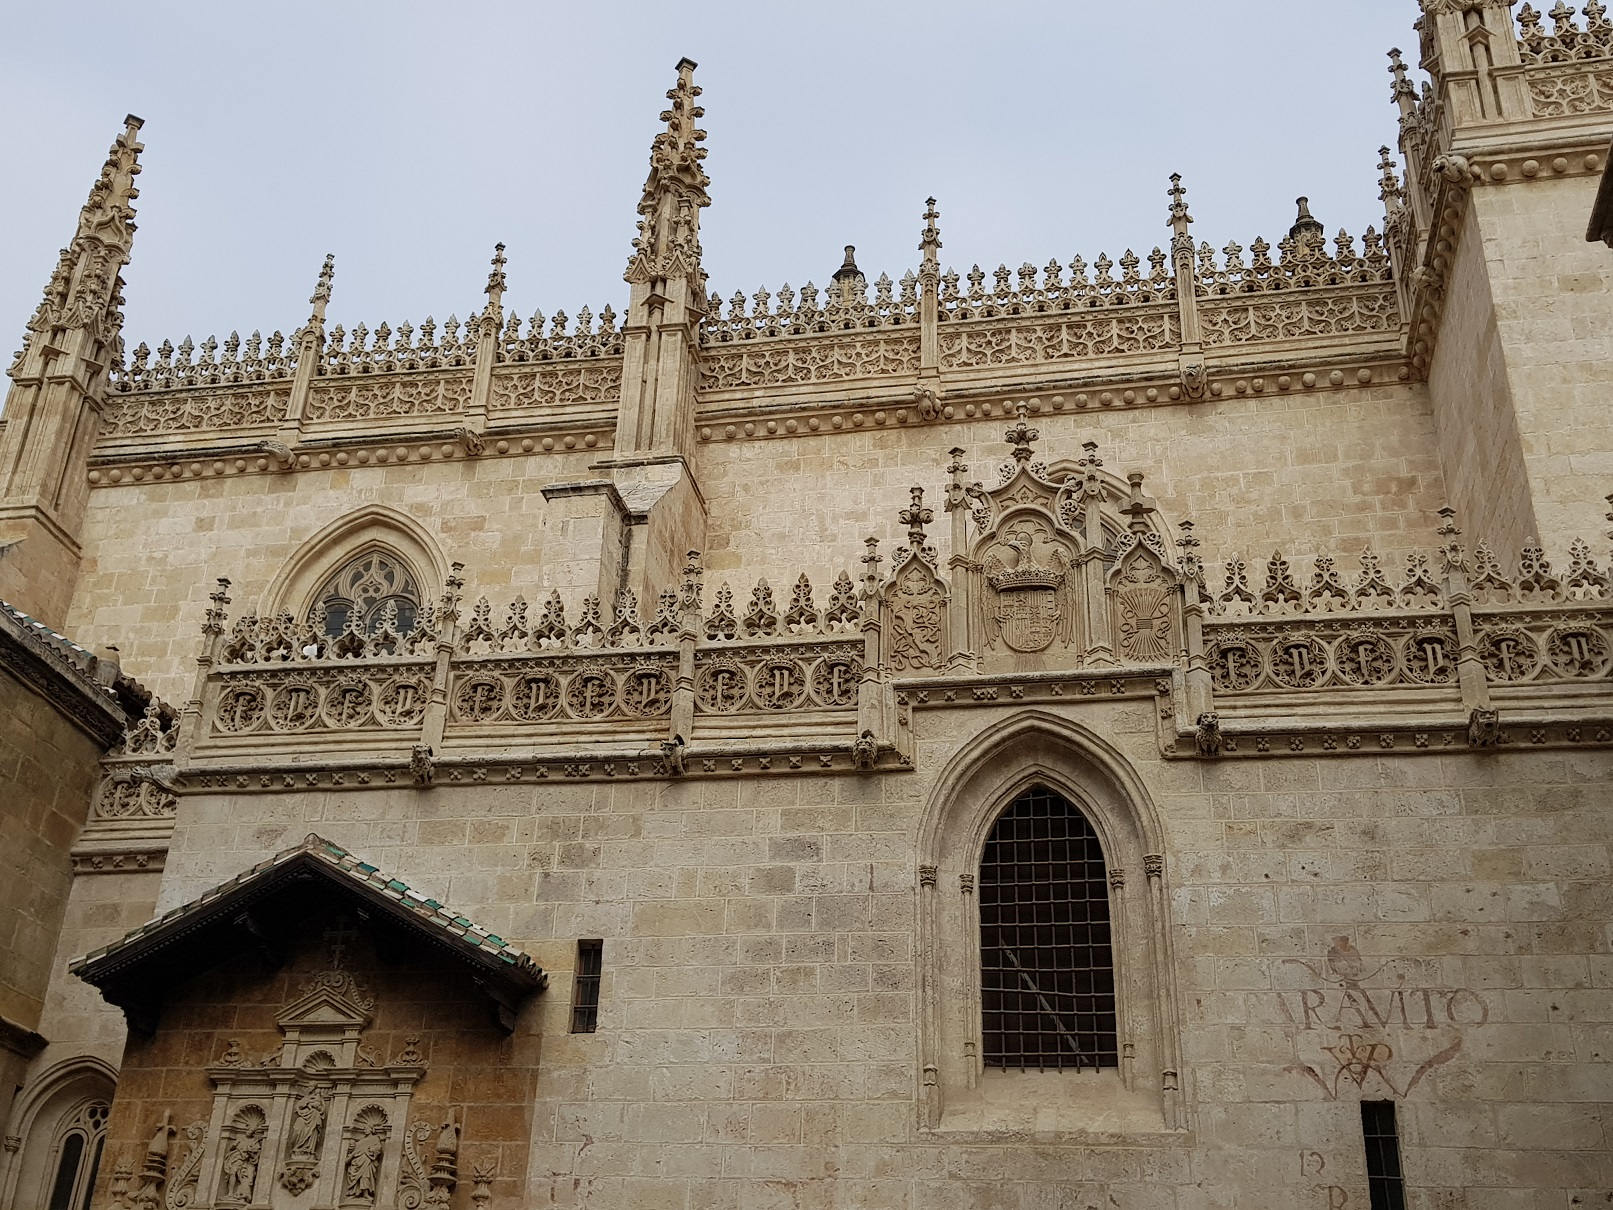arco-apuntado: (908, 703, 1180, 924), (267, 498, 453, 614)
fronton: (272, 985, 372, 1030)
pinaculo-gotico: (27, 105, 163, 341), (629, 48, 719, 226)
